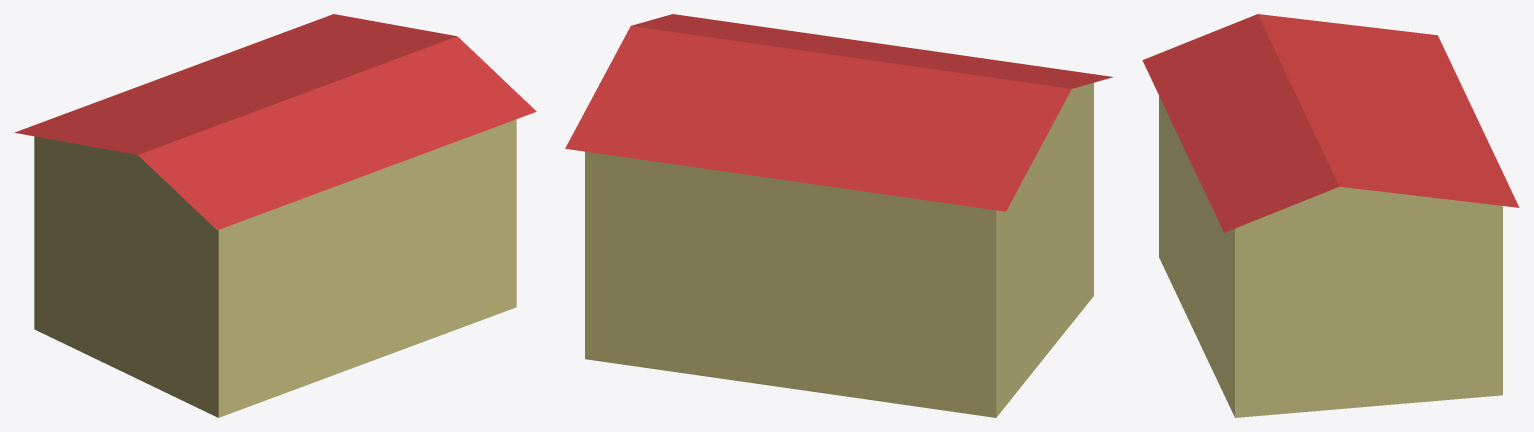
3 renders of one model, left to right at view 1: azimuth 30°, elevation 25°; view 2: azimuth 150°, elevation 25°; view 3: azimuth 270°, elevation 25°, orthographic. The views are drawn at different scales.
Bounding box in the file's own units: 16.72 × 13.48 × 9.01.
